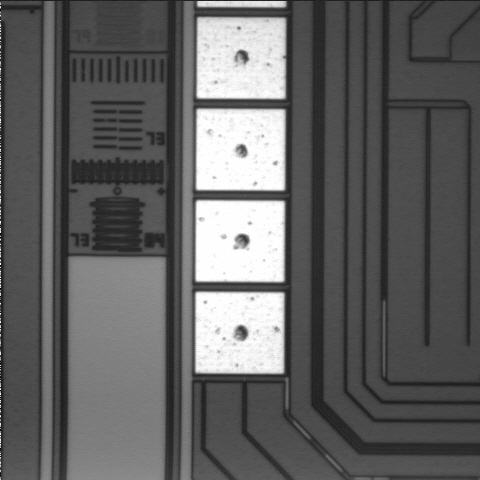pad: (195, 200, 285, 282), (197, 17, 286, 99), (196, 109, 285, 191), (195, 292, 284, 374)
